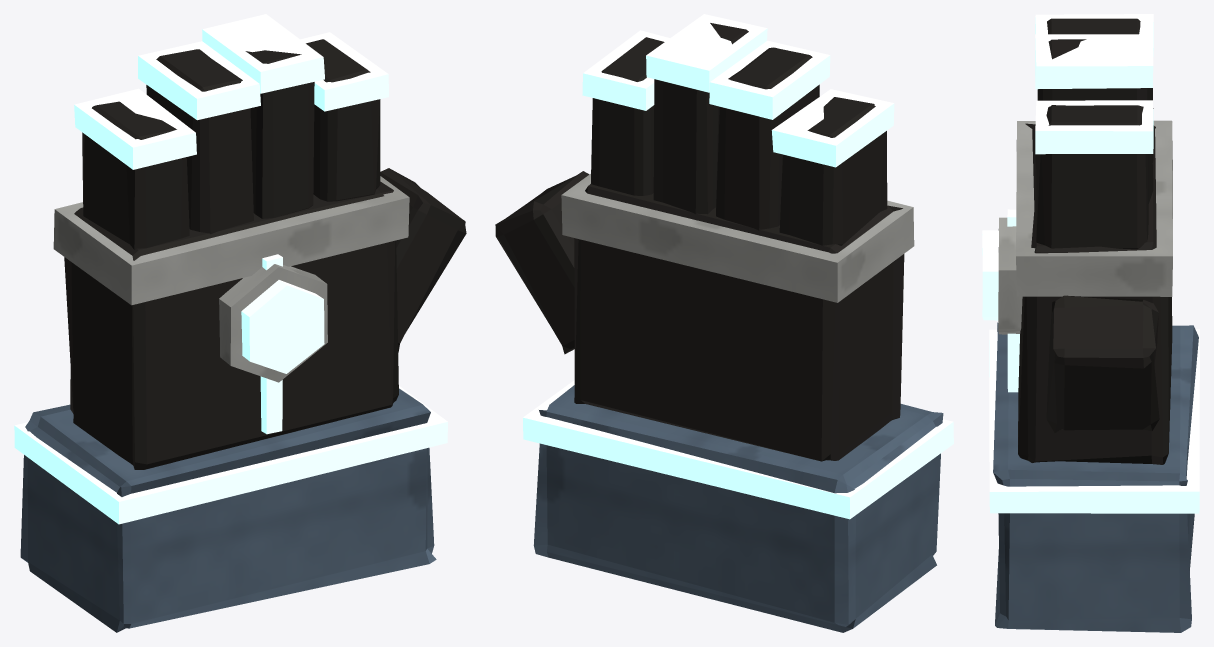
File: starlight_gloves.glb
3 views of the same model, side by side, from view 1: azimuth 30°, elevation 25°; view 2: azimuth 150°, elevation 25°; view 3: azimuth 270°, elevation 25° (orthographic).
Visible parts, largest first — view 1: StarlightGloves; view 2: StarlightGloves; view 3: StarlightGloves.
Part boxes in pixels (x1,y1,x2,y2): StarlightGloves: (14,14,466,632); StarlightGloves: (495,14,953,632); StarlightGloves: (982,14,1199,632).
Bounding box in the file's own units: 0.4058 × 0.5244 × 0.1969.
4 materials, 2 textured.
